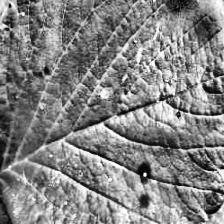Leaf Spot: (0, 0, 224, 224), (0, 0, 25, 181), (0, 174, 61, 224)
